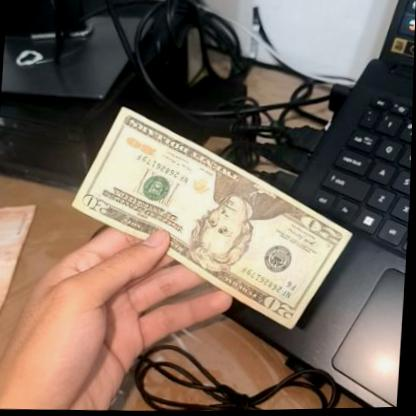twenty-front: (66, 99, 362, 338)
